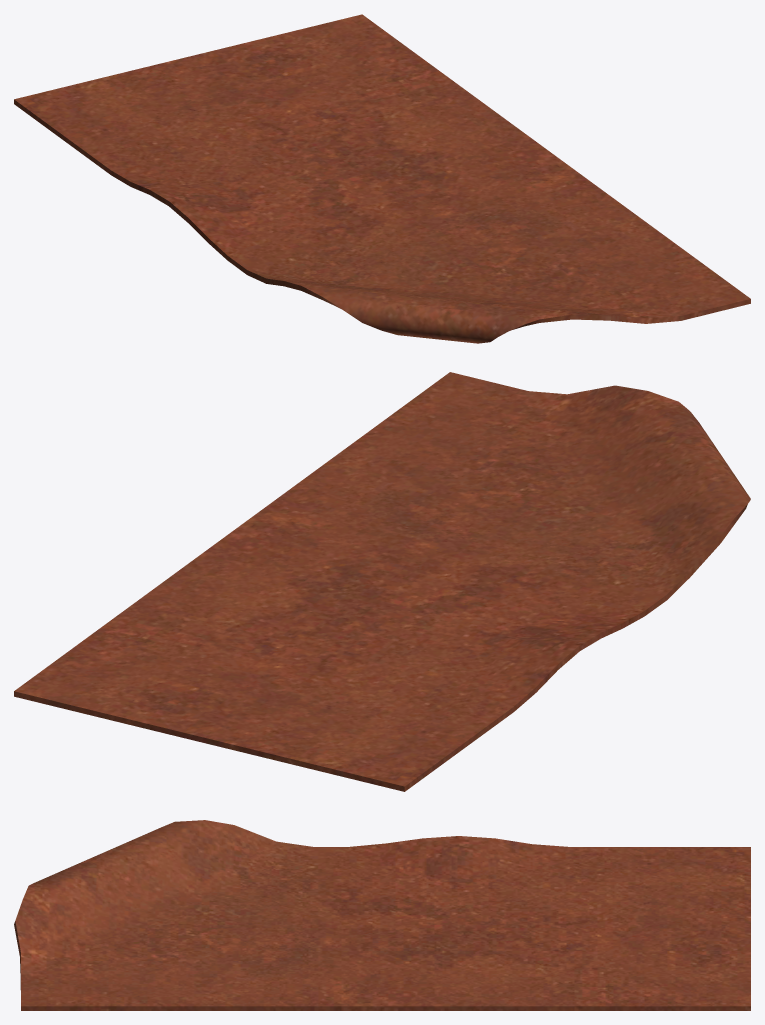
Rendered from waitingroom_linoleum_rolled.dae.
3 views of the same model, one above another, from view 1: azimuth 30°, elevation 25°; view 2: azimuth 150°, elevation 25°; view 3: azimuth 270°, elevation 25° (orthographic). The views are drawn at different scales.
Visible parts, largest first — view 1: pPlane1; view 2: pPlane1; view 3: pPlane1.
Part boxes in pixels (left/top/right/bottom): pPlane1: left=14, top=14, right=750, bottom=343; pPlane1: left=14, top=372, right=750, bottom=791; pPlane1: left=14, top=820, right=750, bottom=1010.
Bounding box in the file's own units: 0.7629 × 0.0658 × 1.46.
Materials: 1 (1 with a texture image).
